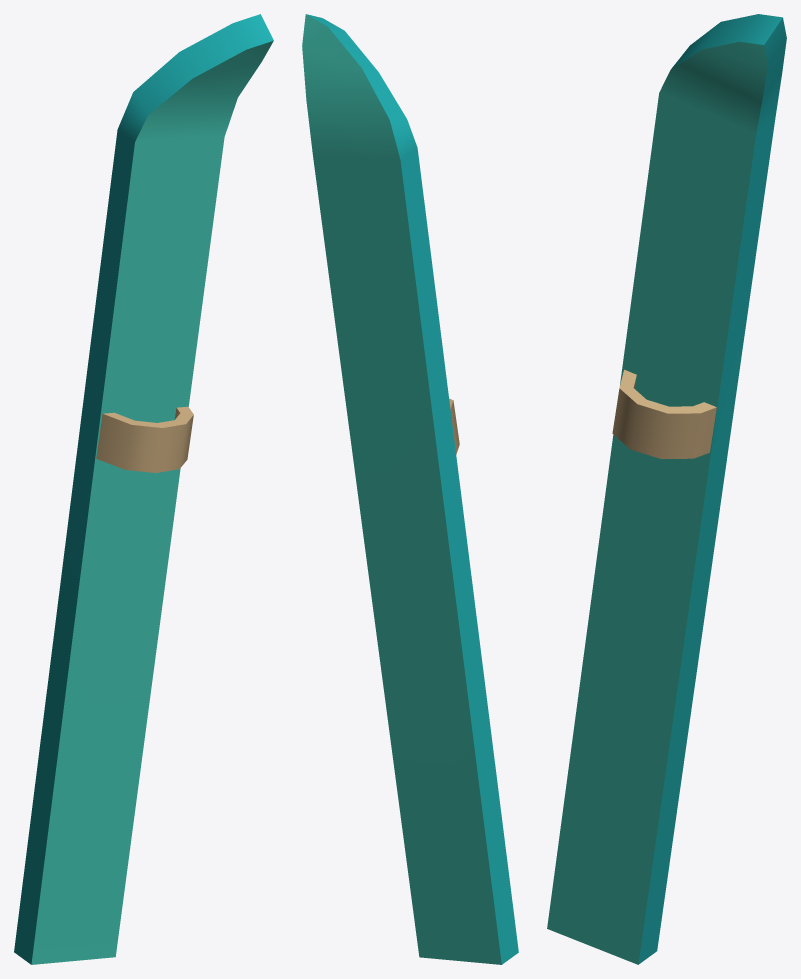
File: BlizzardBeachSki.glb
3 views of the same model, side by side, from view 1: azimuth 30°, elevation 25°; view 2: azimuth 150°, elevation 25°; view 3: azimuth 330°, elevation 25° (orthographic). The views are drawn at different scales.
Parts seen in each view (by area): view 1: BlizzardBeachSki; view 2: BlizzardBeachSki; view 3: BlizzardBeachSki.
Boxes of the visible parts, x1,y1,x2,y2 form: BlizzardBeachSki: (14,14,273,964); BlizzardBeachSki: (302,14,518,964); BlizzardBeachSki: (547,14,786,964).
Size of the model in its own units: 0.2311 by 0.9019 by 0.0736.
